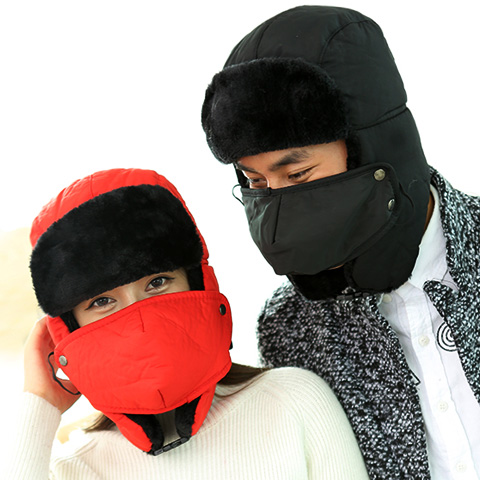face_mask: (235, 120, 357, 275), (71, 241, 196, 388)
